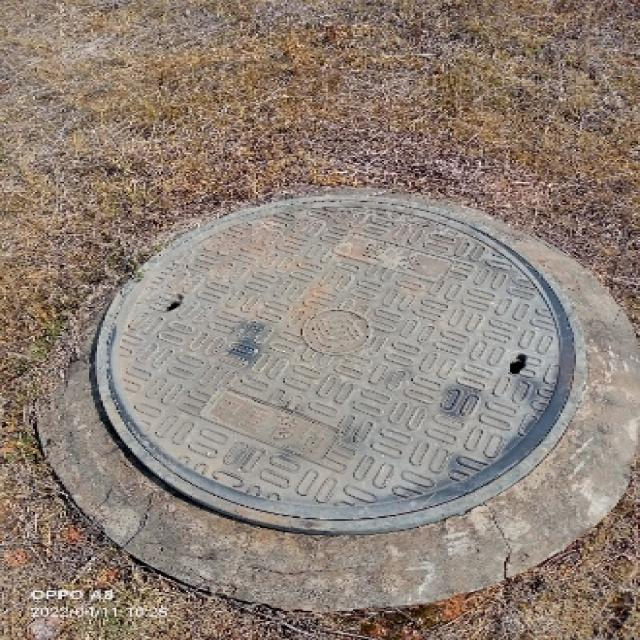Good: (88, 171, 592, 550)
